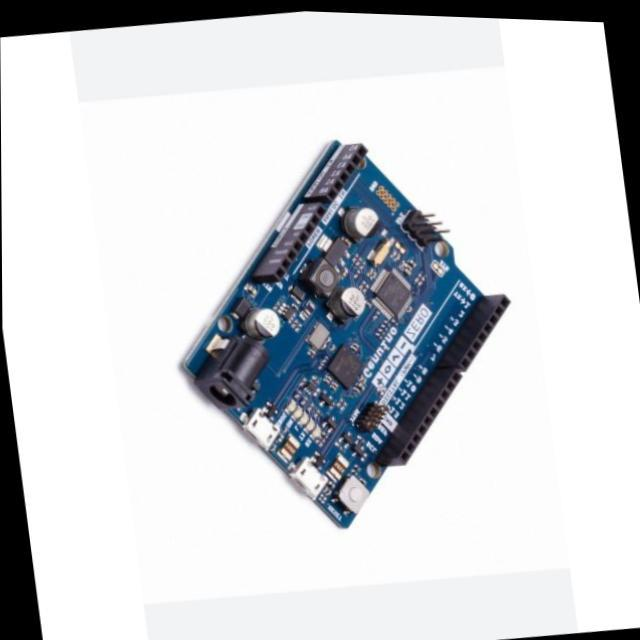Arduino-Zero: (186, 141, 510, 529)
